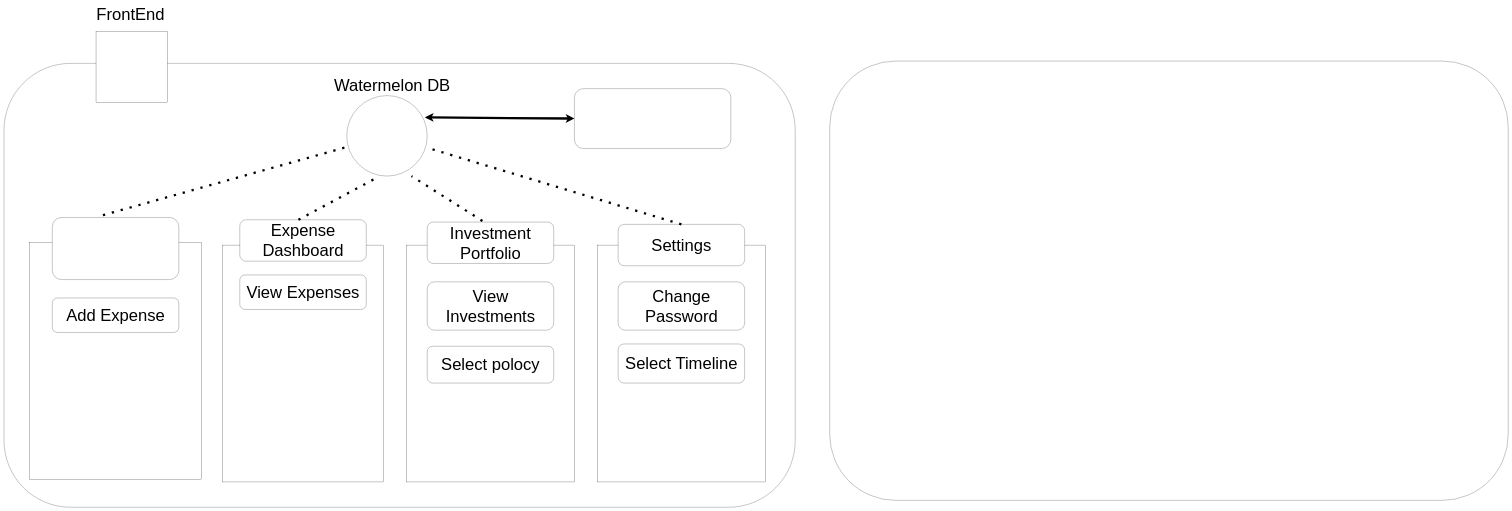
The diagram is 1512 pixels wide and 511 high, and some of its shapes have lost their labels. Each missing label, with the centre of its shape:
"Expense Management Service" goes at (x=115, y=248).
"GrapghQl API Services" goes at (x=652, y=118).
